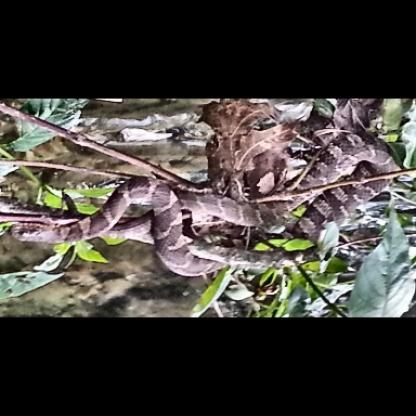Snake: (8, 130, 415, 287)
